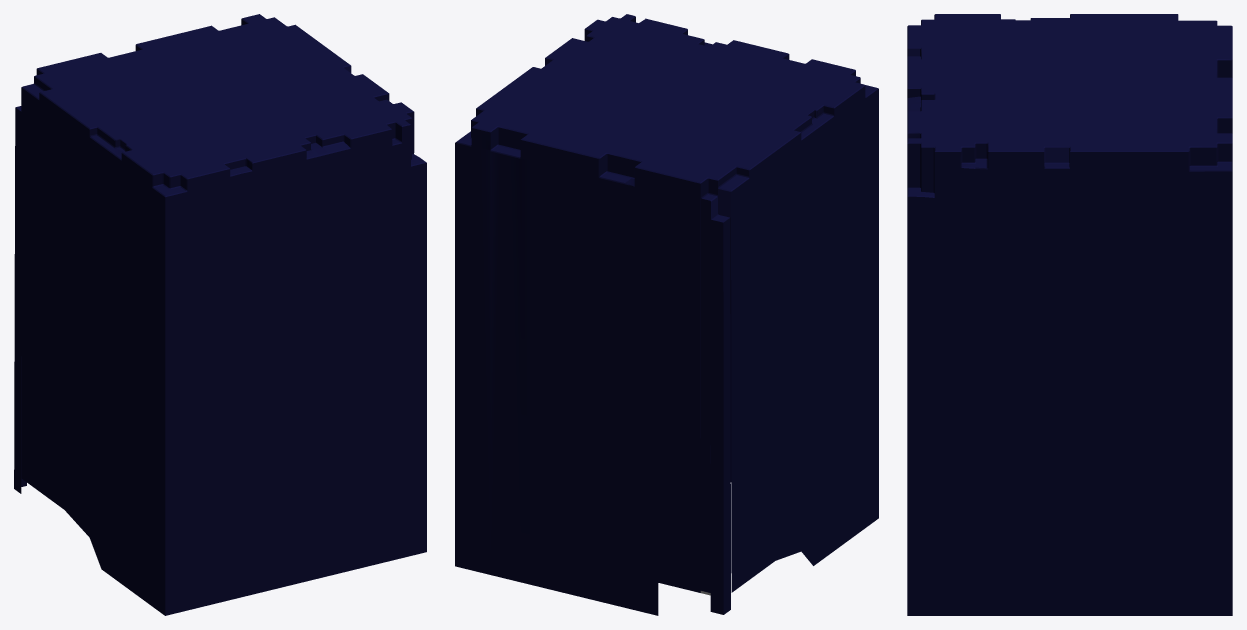
File: main_cube.FBX
3 views of the same model, side by side, from view 1: azimuth 30°, elevation 25°; view 2: azimuth 150°, elevation 25°; view 3: azimuth 270°, elevation 25° (orthographic). The views are drawn at different scales.
Parts seen in each view (by area): view 1: Box001; view 2: Box001; view 3: Box001.
Boxes of the visible parts, x1,y1,x2,y2 form: Box001: (14, 14, 426, 615); Box001: (455, 14, 878, 615); Box001: (907, 14, 1232, 615).
Bounding box in the file's own units: 197 × 310 × 197.
